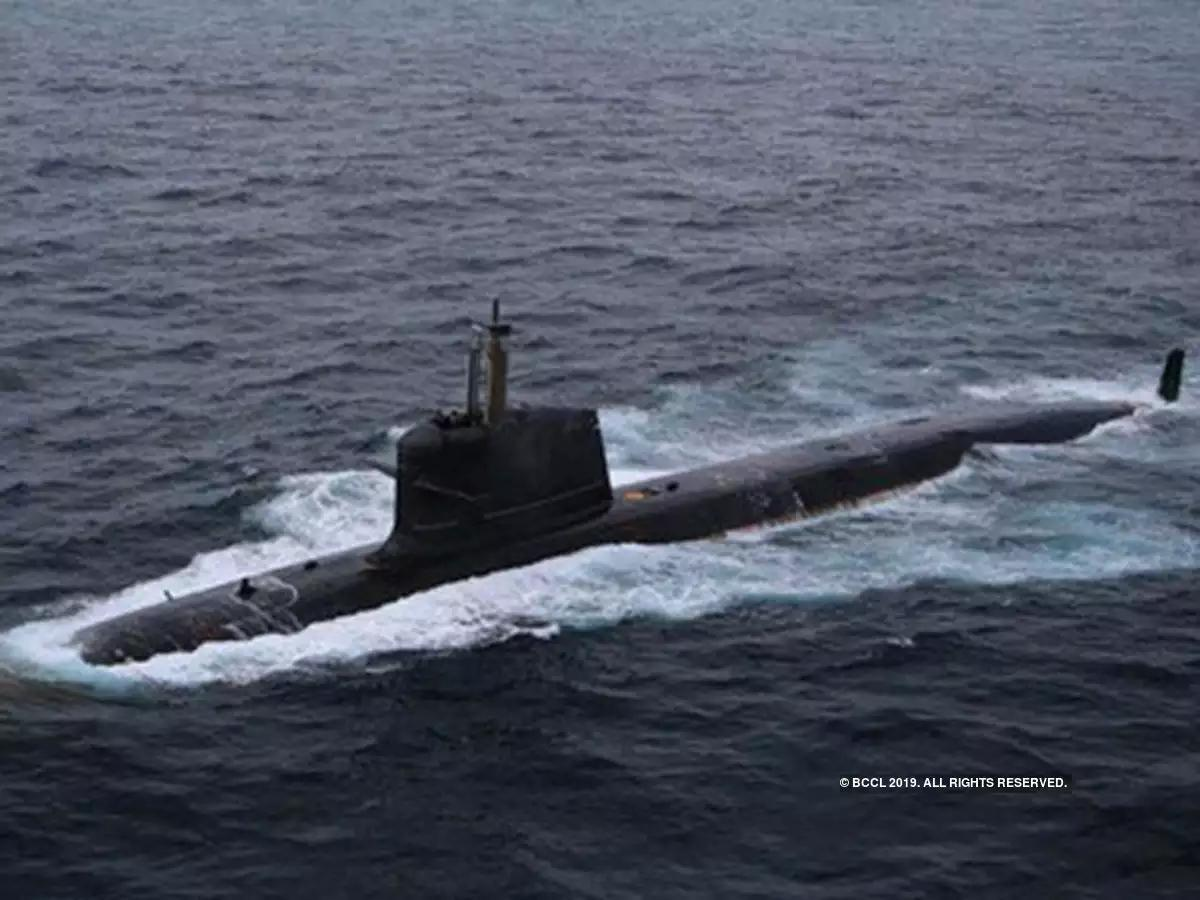Submarine: (0, 182, 1200, 730)
